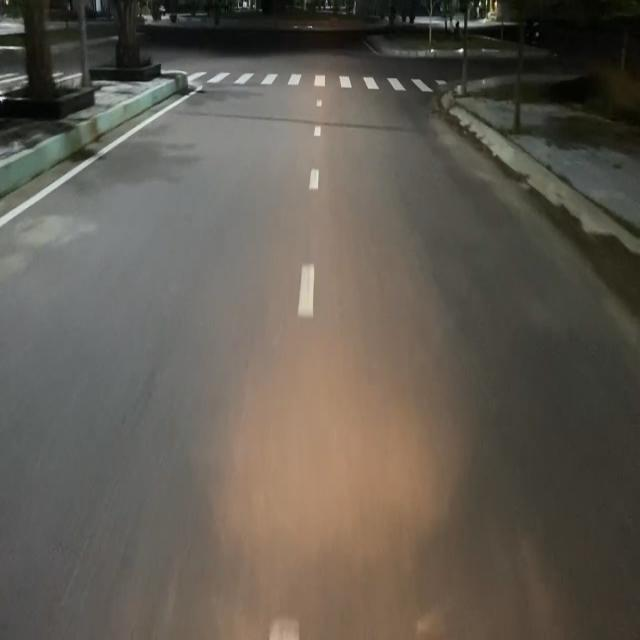walk-crossing: (193, 68, 450, 96)
